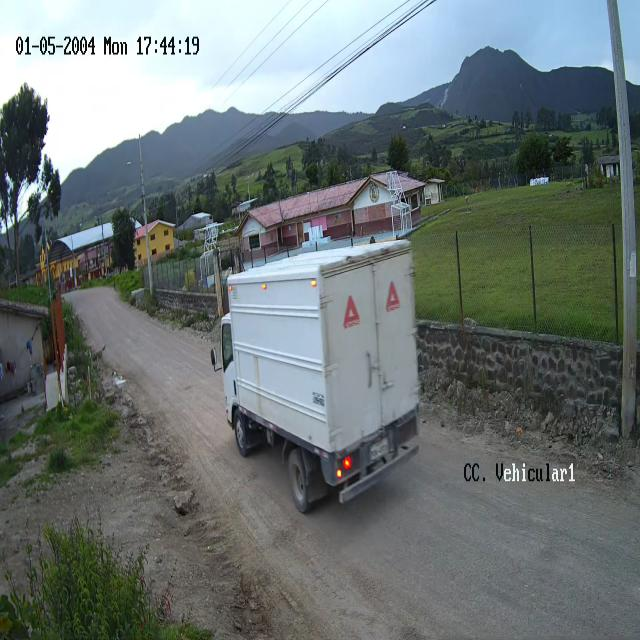TRUCK: (218, 240, 420, 514)
